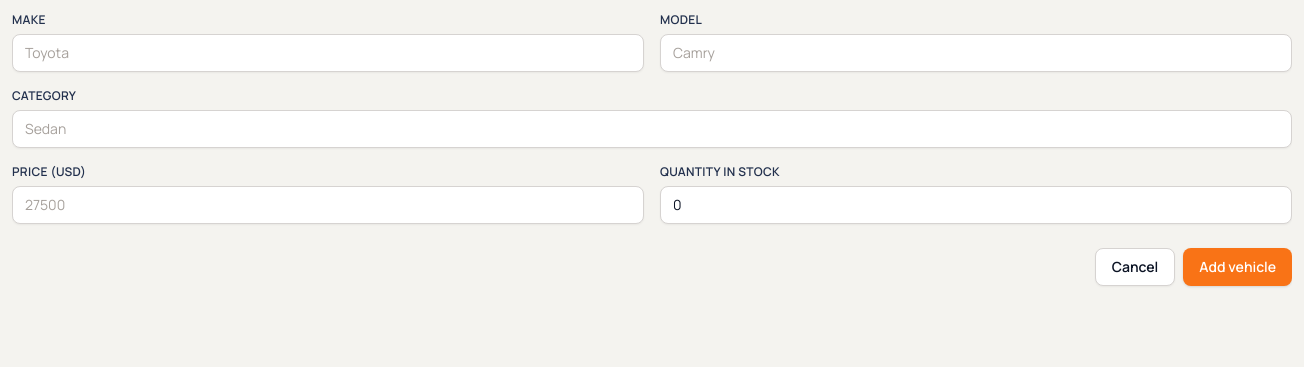
it: VehicleForm › shows validation errors and does not submit invalid data
The image size is (1304, 367).
Step 1. Type "-5" into the number field labelled "Price (USD)" → (328, 205), box [12, 186, 644, 224]
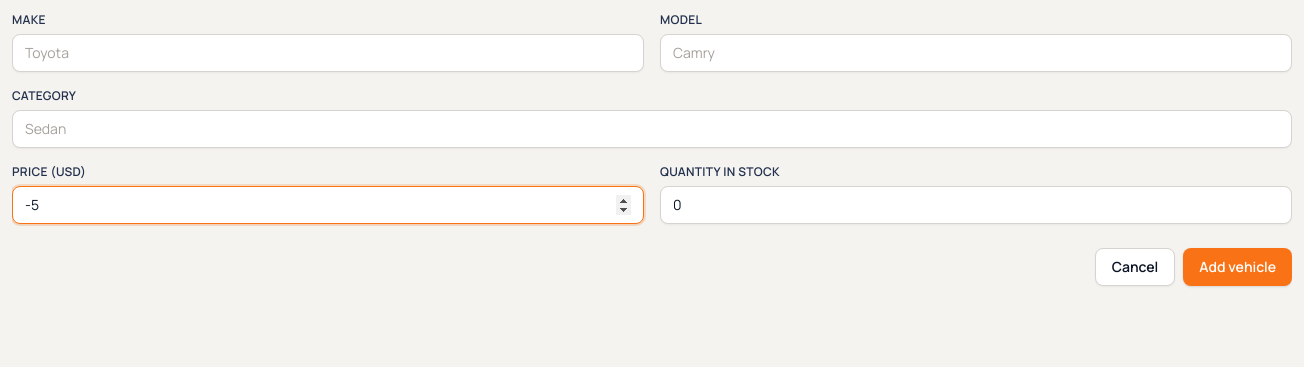
Step 2. Click the button "Add vehicle" → (1238, 267), box [1183, 248, 1292, 286]
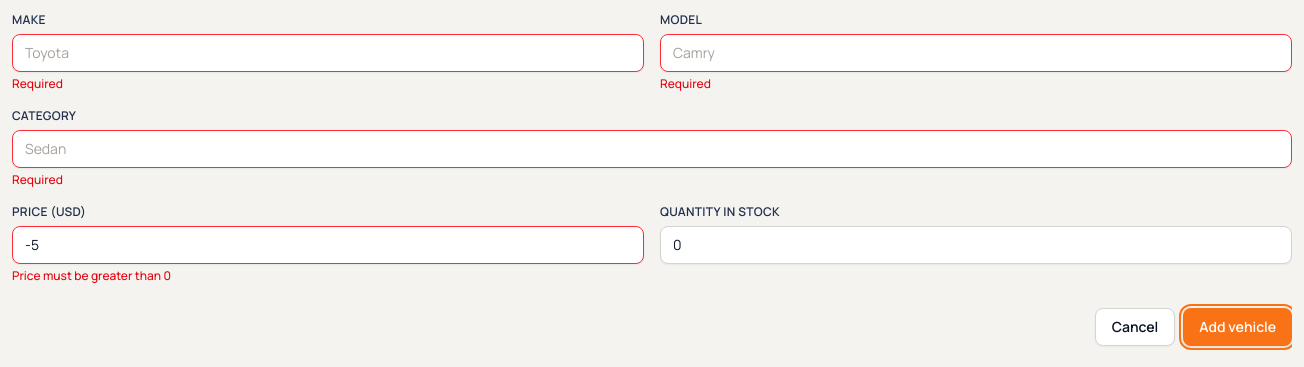
Result: the text "Price must be greater than 0" is shown at [12, 267, 171, 284]
